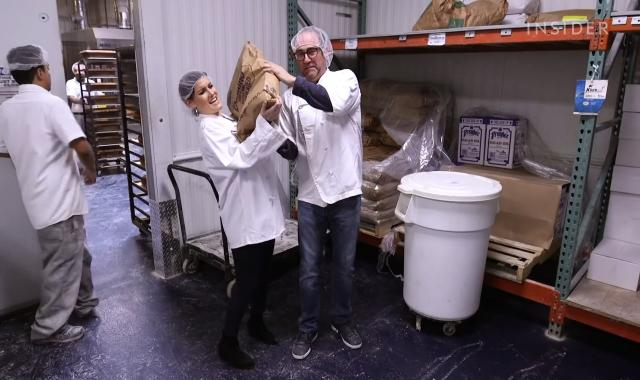hairnet: (291, 28, 335, 64), (5, 46, 54, 71), (179, 69, 213, 100)
